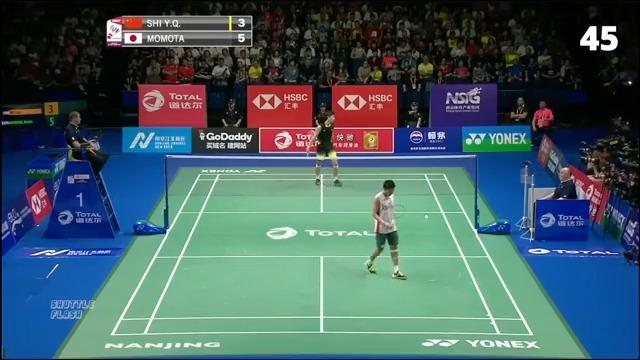Shuttlecock: (423, 213, 431, 221)
